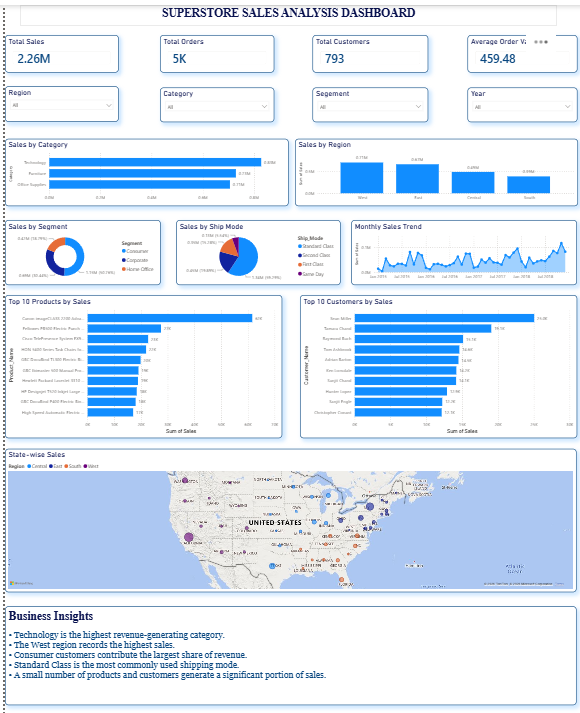

The dashboard page shown, as its layout file describes it:
{"tool":"powerbi","page":{"name":"Page 1","canvas":[1600,2000],"ordinal":0},"visuals":[{"type":"cardVisual","title":"Total Sales","fields":{"Data":["superstore_clean.Total Sales"]},"box":[0,82,314,104],"z":0},{"type":"cardVisual","title":"Total Orders","fields":{"Data":["superstore_clean.Total Orders"]},"box":[430,82,316,104],"z":1000},{"type":"cardVisual","title":"Total Customers","fields":{"Data":["superstore_clean.Total Customers"]},"box":[850,82,320,104],"z":2000},{"type":"cardVisual","title":"Average Order Value","fields":{"Data":["superstore_clean.Average Order Value"]},"box":[1278,82,304,104],"z":3000},{"type":"clusteredBarChart","title":"Sales by Category","fields":{"Category":["superstore_clean.Category"],"Y":["Sum(superstore_clean.Sales)"]},"box":[0,370,784,186],"z":4000},{"type":"clusteredColumnChart","title":"Sales by Region","fields":{"Category":["superstore_clean.Region"],"Y":["Sum(superstore_clean.Sales)"]},"box":[800,370,782,186],"z":5000},{"type":"donutChart","title":"Sales by Segment","fields":{"Category":["superstore_clean.Segment"],"Y":["Sum(superstore_clean.Sales)"]},"box":[0,594,430,180],"z":6000},{"type":"pieChart","title":"Sales by Ship Mode","fields":{"Category":["superstore_clean.Ship_Mode"],"Y":["Sum(superstore_clean.Sales)"]},"box":[472,594,454,180],"z":7000},{"type":"lineChart","title":"Monthly Sales Trend","fields":{"Y":["Sum(superstore_clean.Sales)"],"Category":["superstore_clean.Order_Date.Variation.Date Hierarchy.Year","superstore_clean.Order_Date.Variation.Date Hierarchy.Month"]},"box":[958,594,624,180],"z":8000},{"type":"clusteredBarChart","title":"Top 10 Products by Sales","fields":{"Category":["superstore_clean.Product_Name"],"Y":["Sum(superstore_clean.Sales)"]},"box":[0,802,766,396],"z":9000},{"type":"clusteredBarChart","title":"Top 10 Customers by Sales","fields":{"Category":["superstore_clean.Customer_Name"],"Y":["Sum(superstore_clean.Sales)"]},"box":[816,802,766,396],"z":10000},{"type":"map","title":"State-wise Sales","fields":{"Category":["superstore_clean.State"],"Series":["superstore_clean.Region"],"Size":["Sum(superstore_clean.Sales)"]},"box":[0,1226.7,1580,396.7],"z":11000},{"type":"slicer","title":"Region","fields":{"Values":["superstore_clean.Region"]},"box":[0,226,314,98],"z":12000},{"type":"slicer","title":"Category","fields":{"Values":["superstore_clean.Category"]},"box":[430,228,316,96],"z":13000},{"type":"slicer","title":"Segement","fields":{"Values":["superstore_clean.Segment"]},"box":[850,228,320,96],"z":14000},{"type":"slicer","title":"Year","fields":{"Values":["DateTable.Year"]},"box":[1278,228,304,96],"z":15000},{"type":"textbox","box":[41.7,0,1485,58.3],"z":16000},{"type":"textbox","box":[0,1663.3,1580,273.3],"z":17000}]}

Visuals, with their boxes in screenshot pixels (x1, y1, x2, y2), scaled from the page's 1600x2000 canvas onto the 580x713 screenshot:
"Total Sales" cardVisual: bbox=[0, 29, 114, 66]
"Total Orders" cardVisual: bbox=[156, 29, 270, 66]
"Total Customers" cardVisual: bbox=[308, 29, 424, 66]
"Average Order Value" cardVisual: bbox=[463, 29, 573, 66]
"Sales by Category" clusteredBarChart: bbox=[0, 132, 284, 198]
"Sales by Region" clusteredColumnChart: bbox=[290, 132, 573, 198]
"Sales by Segment" donutChart: bbox=[0, 212, 156, 276]
"Sales by Ship Mode" pieChart: bbox=[171, 212, 336, 276]
"Monthly Sales Trend" lineChart: bbox=[347, 212, 573, 276]
"Top 10 Products by Sales" clusteredBarChart: bbox=[0, 286, 278, 427]
"Top 10 Customers by Sales" clusteredBarChart: bbox=[296, 286, 573, 427]
"State-wise Sales" map: bbox=[0, 437, 573, 579]
"Region" slicer: bbox=[0, 81, 114, 116]
"Category" slicer: bbox=[156, 81, 270, 116]
"Segement" slicer: bbox=[308, 81, 424, 116]
"Year" slicer: bbox=[463, 81, 573, 116]
textbox: bbox=[15, 0, 553, 21]
textbox: bbox=[0, 593, 573, 690]
